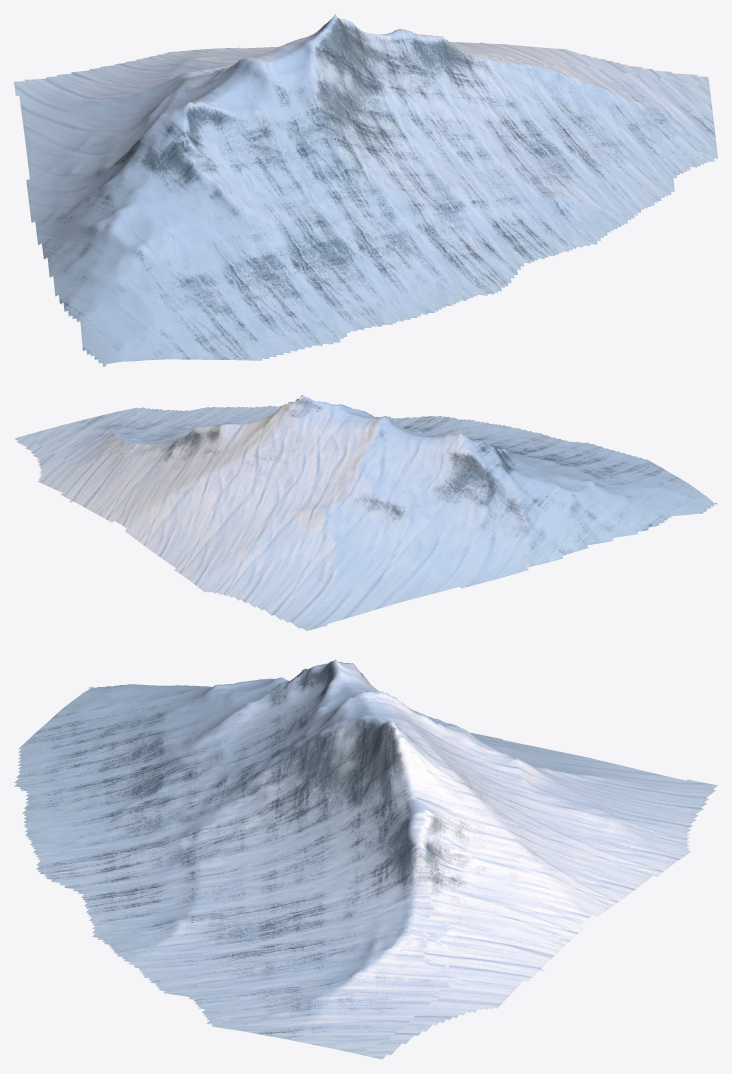
File: Snow_Mountain_中景_0309.glb
3 views of the same model, one above another, from view 1: azimuth 30°, elevation 25°; view 2: azimuth 150°, elevation 25°; view 3: azimuth 270°, elevation 25° (orthographic). The views are drawn at different scales.
Visible parts, largest first — view 1: Landscape.001; view 2: Landscape.001; view 3: Landscape.001.
Part boxes in pixels (x1=…): Landscape.001: x1=14, y1=14, x2=717, y2=366; Landscape.001: x1=14, y1=395, x2=717, y2=630; Landscape.001: x1=14, y1=659, x2=717, y2=1059.
Size of the model in its own units: 1.86 by 0.3632 by 1.47.
Materials: 1 (1 with a texture image).
